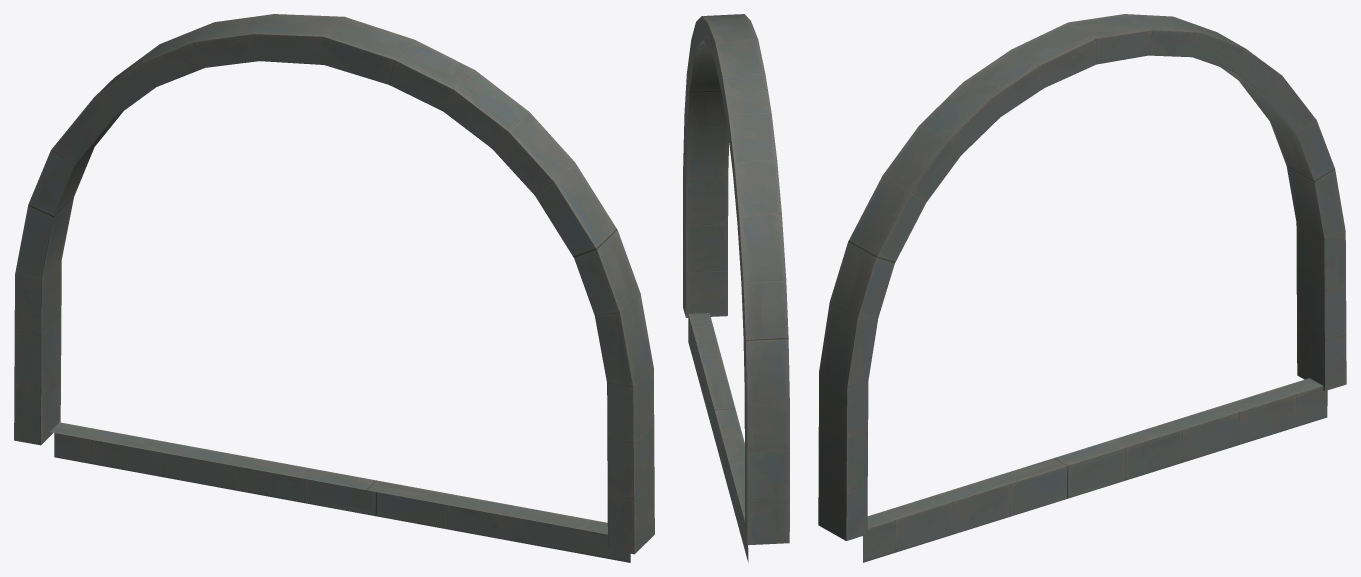
Rendered from Indoor_Mdprops_Church_Squate05_Vo_1483_0.fbx.
The picture shows the model from 3 angles, left to right: view 1: azimuth 30°, elevation 25°; view 2: azimuth 150°, elevation 25°; view 3: azimuth 270°, elevation 25°; orthographic projection. The views are drawn at different scales.
Parts seen in each view (by area): view 1: Indoor_Mdprops_Church_Squate05_Vo_1483_0; view 2: Indoor_Mdprops_Church_Squate05_Vo_1483_0; view 3: Indoor_Mdprops_Church_Squate05_Vo_1483_0.
Boxes of the visible parts, <box> form: Indoor_Mdprops_Church_Squate05_Vo_1483_0: <box>14,14,654,562</box>; Indoor_Mdprops_Church_Squate05_Vo_1483_0: <box>683,14,789,562</box>; Indoor_Mdprops_Church_Squate05_Vo_1483_0: <box>818,14,1346,562</box>.
Size of the model in its own units: 2.17 by 2.65 by 2.8.
